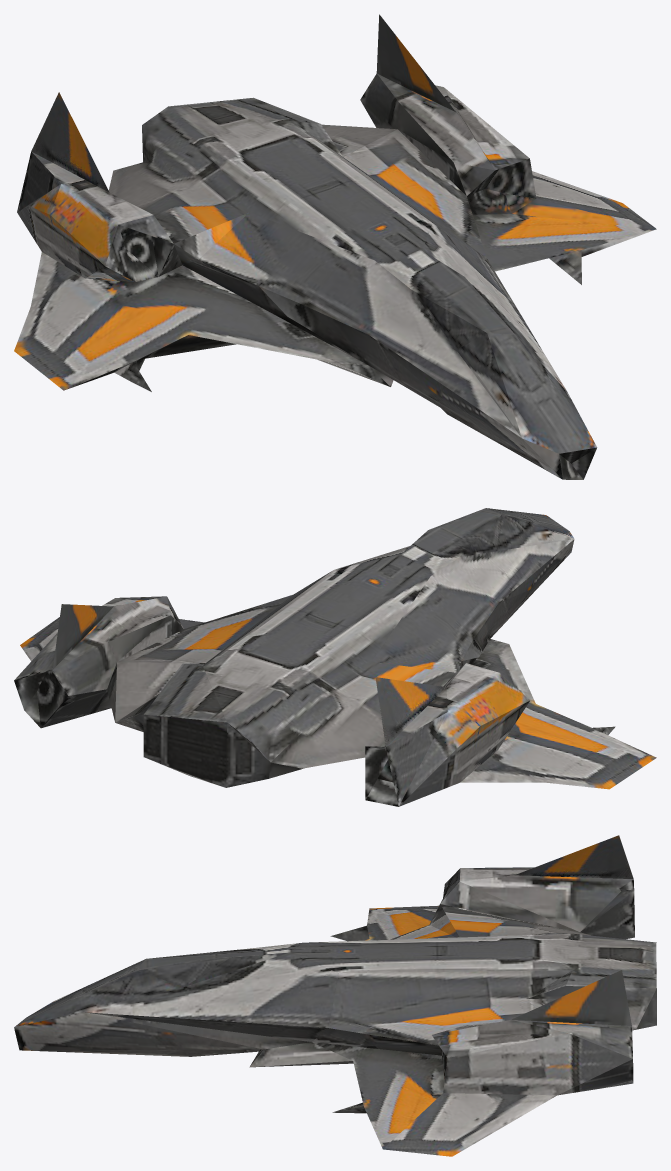
The model's file is fighter-far.glb.
3 views of the same model, one above another, from view 1: azimuth 30°, elevation 25°; view 2: azimuth 150°, elevation 25°; view 3: azimuth 270°, elevation 25° (orthographic). The views are drawn at different scales.
Parts seen in each view (by area): view 1: Low; view 2: Low; view 3: Low.
Boxes of the visible parts, x1,y1,x2,y2 form: Low: (14, 14, 656, 479); Low: (14, 508, 656, 806); Low: (14, 835, 656, 1156).
Bounding box in the file's own units: 1.64 × 0.4401 × 1.77.
1 material, 1 textured.
